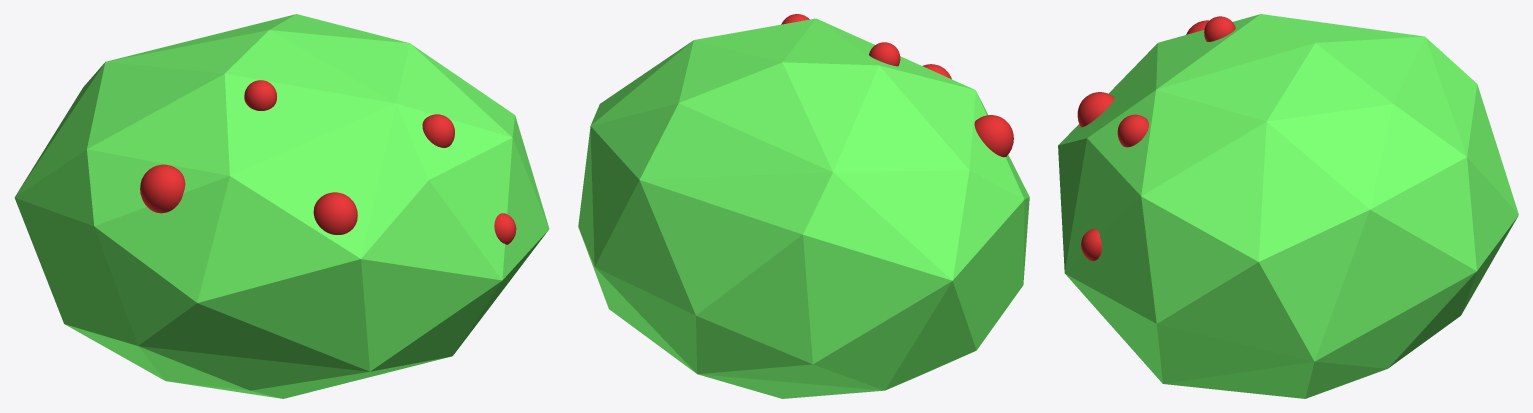
The model's file is Bush_2.fbx.
3 renders of one model, left to right at view 1: azimuth 30°, elevation 25°; view 2: azimuth 150°, elevation 25°; view 3: azimuth 270°, elevation 25°, orthographic. The views are drawn at different scales.
Parts seen in each view (by area): view 1: Sphere.006, Sphere.010, Sphere.007, Sphere.008, Sphere.009, Sphere.011; view 2: Sphere.006, Sphere.010, Sphere.009; view 3: Sphere.006, Sphere.007, Sphere.008, Sphere.009, Sphere.011.
Boxes of the visible parts, <box> form: Sphere.006: <box>14,14,549,398</box>; Sphere.010: <box>140,164,185,213</box>; Sphere.007: <box>313,192,357,234</box>; Sphere.008: <box>422,114,454,147</box>; Sphere.009: <box>244,80,276,110</box>; Sphere.011: <box>494,213,516,244</box>; Sphere.006: <box>578,18,1029,398</box>; Sphere.010: <box>974,115,1013,157</box>; Sphere.009: <box>869,42,900,66</box>; Sphere.006: <box>1058,14,1518,398</box>; Sphere.007: <box>1077,92,1114,127</box>; Sphere.008: <box>1117,114,1148,147</box>; Sphere.009: <box>1204,16,1235,41</box>; Sphere.011: <box>1081,229,1101,261</box>.
Size of the model in its own units: 492 by 356 by 462.
